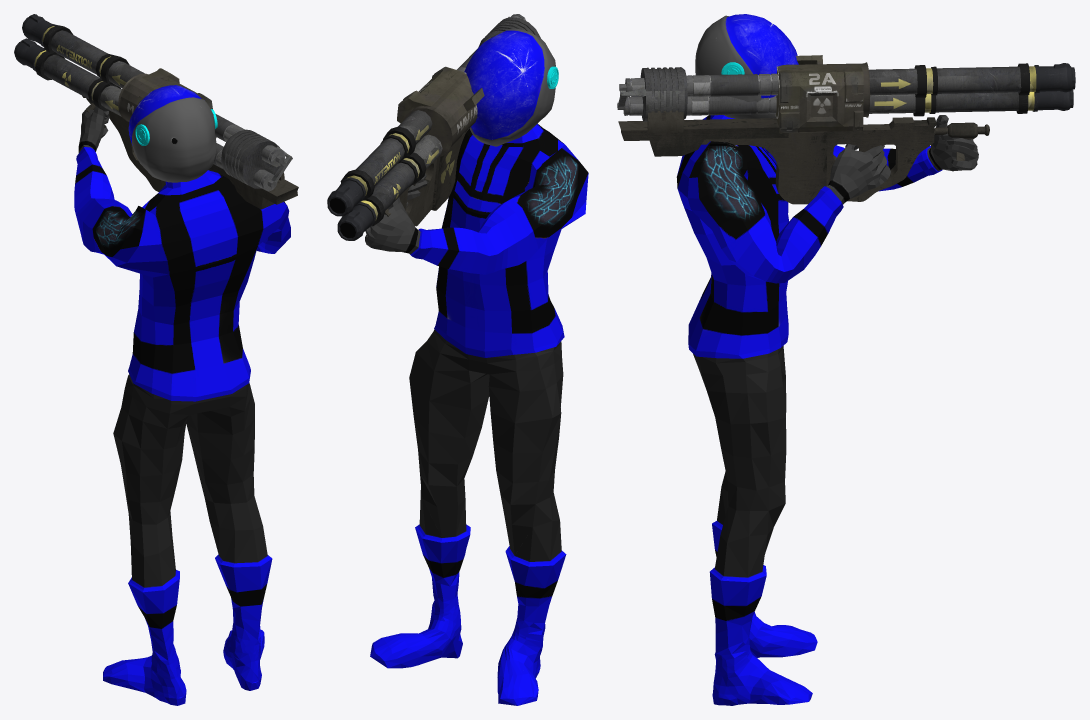
3 views of the same model, side by side, from view 1: azimuth 30°, elevation 25°; view 2: azimuth 150°, elevation 25°; view 3: azimuth 270°, elevation 25° (orthographic). The views are drawn at different scales.
Visible parts, largest first — view 1: Brazos2, Piernas1, group1_polySurface5, Cabeza1; view 2: Piernas1, Brazos2, group1_polySurface5, Cabeza1; view 3: group1_polySurface5, Brazos2, Piernas1, Cabeza1.
Boxes of the visible parts, box(x1,y1,x2,y2) form: Brazos2: box(74, 105, 290, 401); Piernas1: box(103, 374, 272, 705); group1_polySurface5: box(14, 14, 298, 209); Cabeza1: box(128, 85, 217, 182); Piernas1: box(370, 329, 566, 705); Brazos2: box(365, 123, 588, 357); group1_polySurface5: box(327, 14, 540, 240); Cabeza1: box(464, 28, 558, 146); group1_polySurface5: box(617, 55, 1075, 204); Brazos2: box(676, 115, 978, 358); Piernas1: box(693, 346, 817, 705); Cabeza1: box(695, 14, 798, 118).
Bounding box in the file's own units: 55.35 × 177 × 113.
